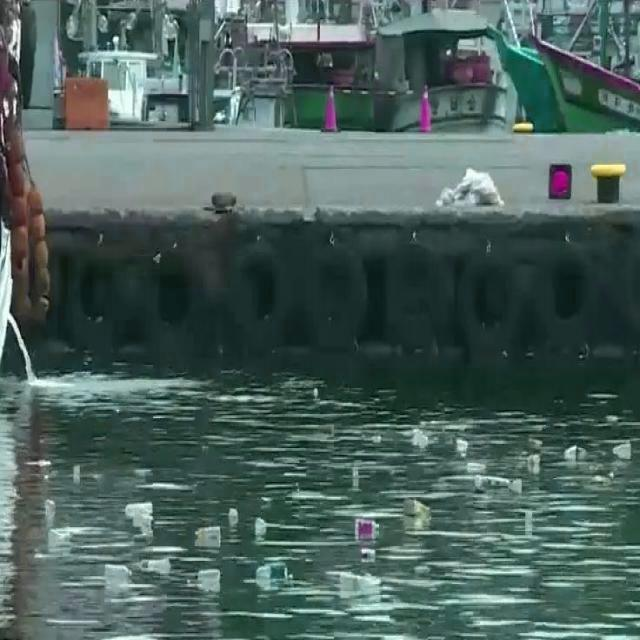Plastic: (123, 498, 161, 540), (465, 474, 530, 498), (327, 574, 391, 598), (403, 422, 437, 458), (252, 559, 291, 590), (43, 522, 72, 559), (192, 522, 222, 553), (395, 495, 432, 520), (196, 564, 222, 595), (99, 562, 131, 587), (353, 511, 383, 537), (140, 556, 170, 581), (36, 494, 60, 521), (344, 464, 367, 492), (562, 441, 589, 463), (346, 545, 382, 561), (609, 441, 632, 465), (63, 465, 86, 489), (243, 518, 266, 539), (458, 460, 490, 475), (524, 450, 543, 474), (451, 433, 467, 461), (37, 456, 52, 480), (223, 508, 242, 526), (367, 428, 383, 446), (600, 414, 618, 425)
Trash: (425, 163, 506, 216)
